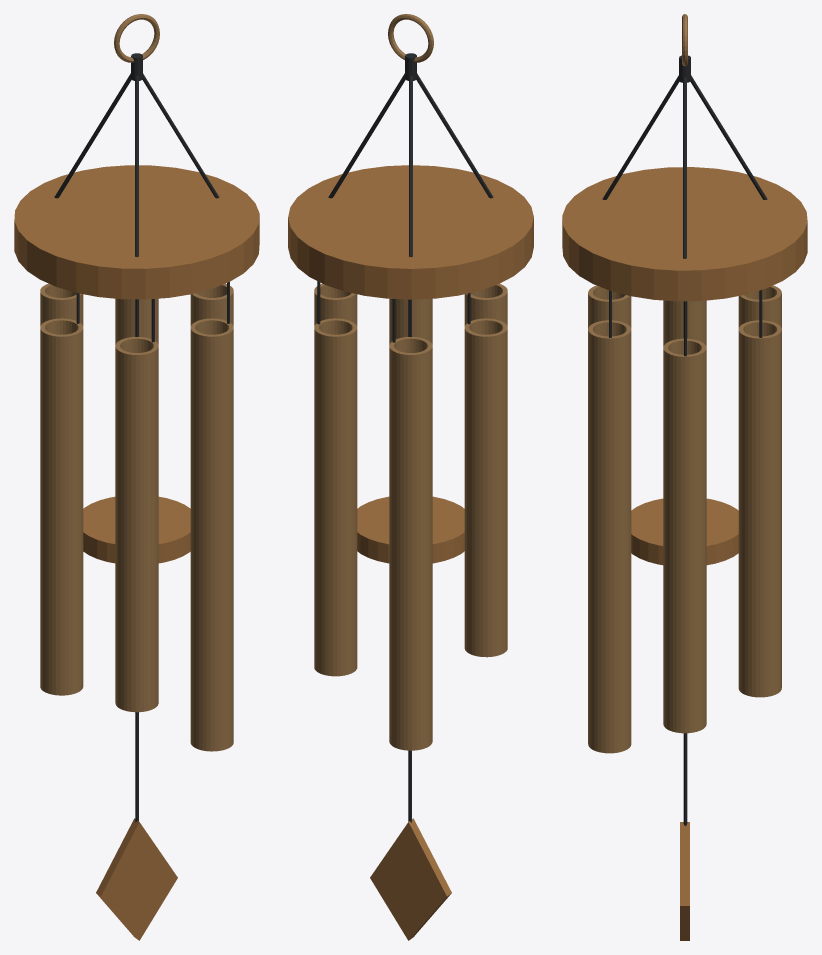
The model's file is NEW_RECOVERY_096_LOD0.fbx.
3 views of the same model, side by side, from view 1: azimuth 30°, elevation 25°; view 2: azimuth 150°, elevation 25°; view 3: azimuth 270°, elevation 25° (orthographic).
Visible parts, largest first — view 1: Wind chime; view 2: Wind chime; view 3: Wind chime.
Boxes of the visible parts, bbox=[...] form: Wind chime: bbox=[14, 14, 259, 940]; Wind chime: bbox=[288, 14, 533, 940]; Wind chime: bbox=[562, 14, 807, 940].
Bounding box in the file's own units: 57.9 × 57.9 × 241.
